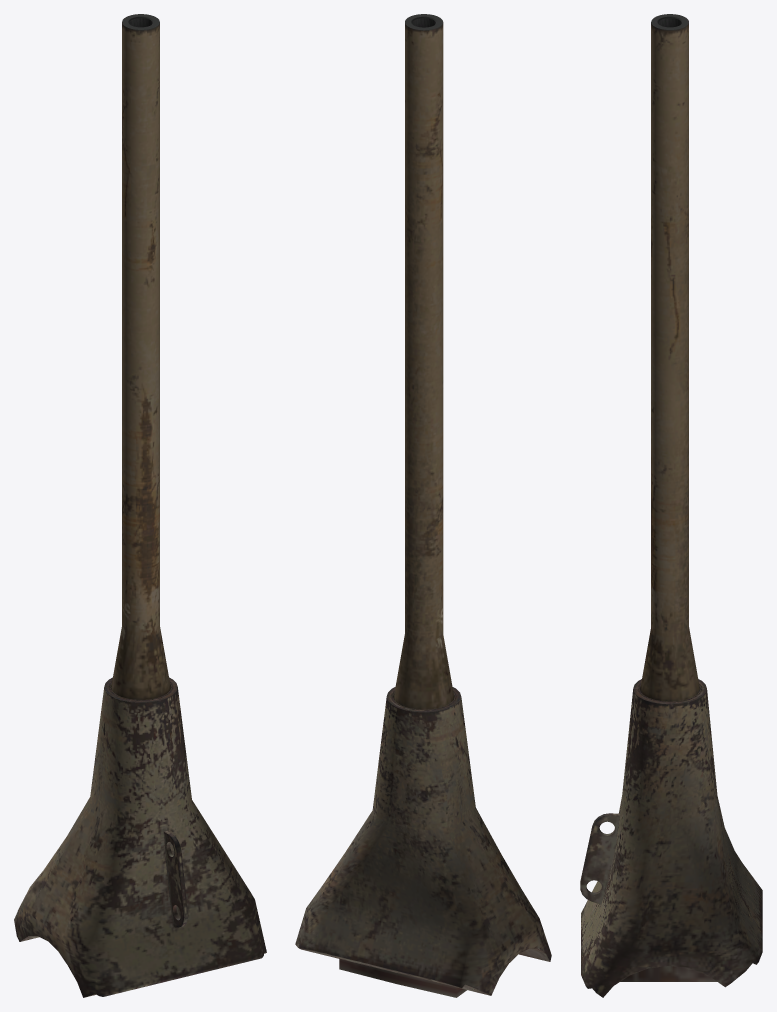
Rendered from Gun_07.glb.
The picture shows the model from 3 angles, left to right: view 1: azimuth 30°, elevation 25°; view 2: azimuth 150°, elevation 25°; view 3: azimuth 270°, elevation 25°; orthographic projection.
Visible parts, largest first — view 1: set_0_group_0; view 2: set_0_group_0; view 3: set_0_group_0.
Boxes of the visible parts, left/top/right/bottom form: set_0_group_0: left=14, top=14, right=266, bottom=997; set_0_group_0: left=295, top=14, right=551, bottom=997; set_0_group_0: left=580, top=14, right=762, bottom=997.
Bounding box in the file's own units: 1.18 × 5.56 × 0.9887.
Materials: 1 (1 with a texture image).
